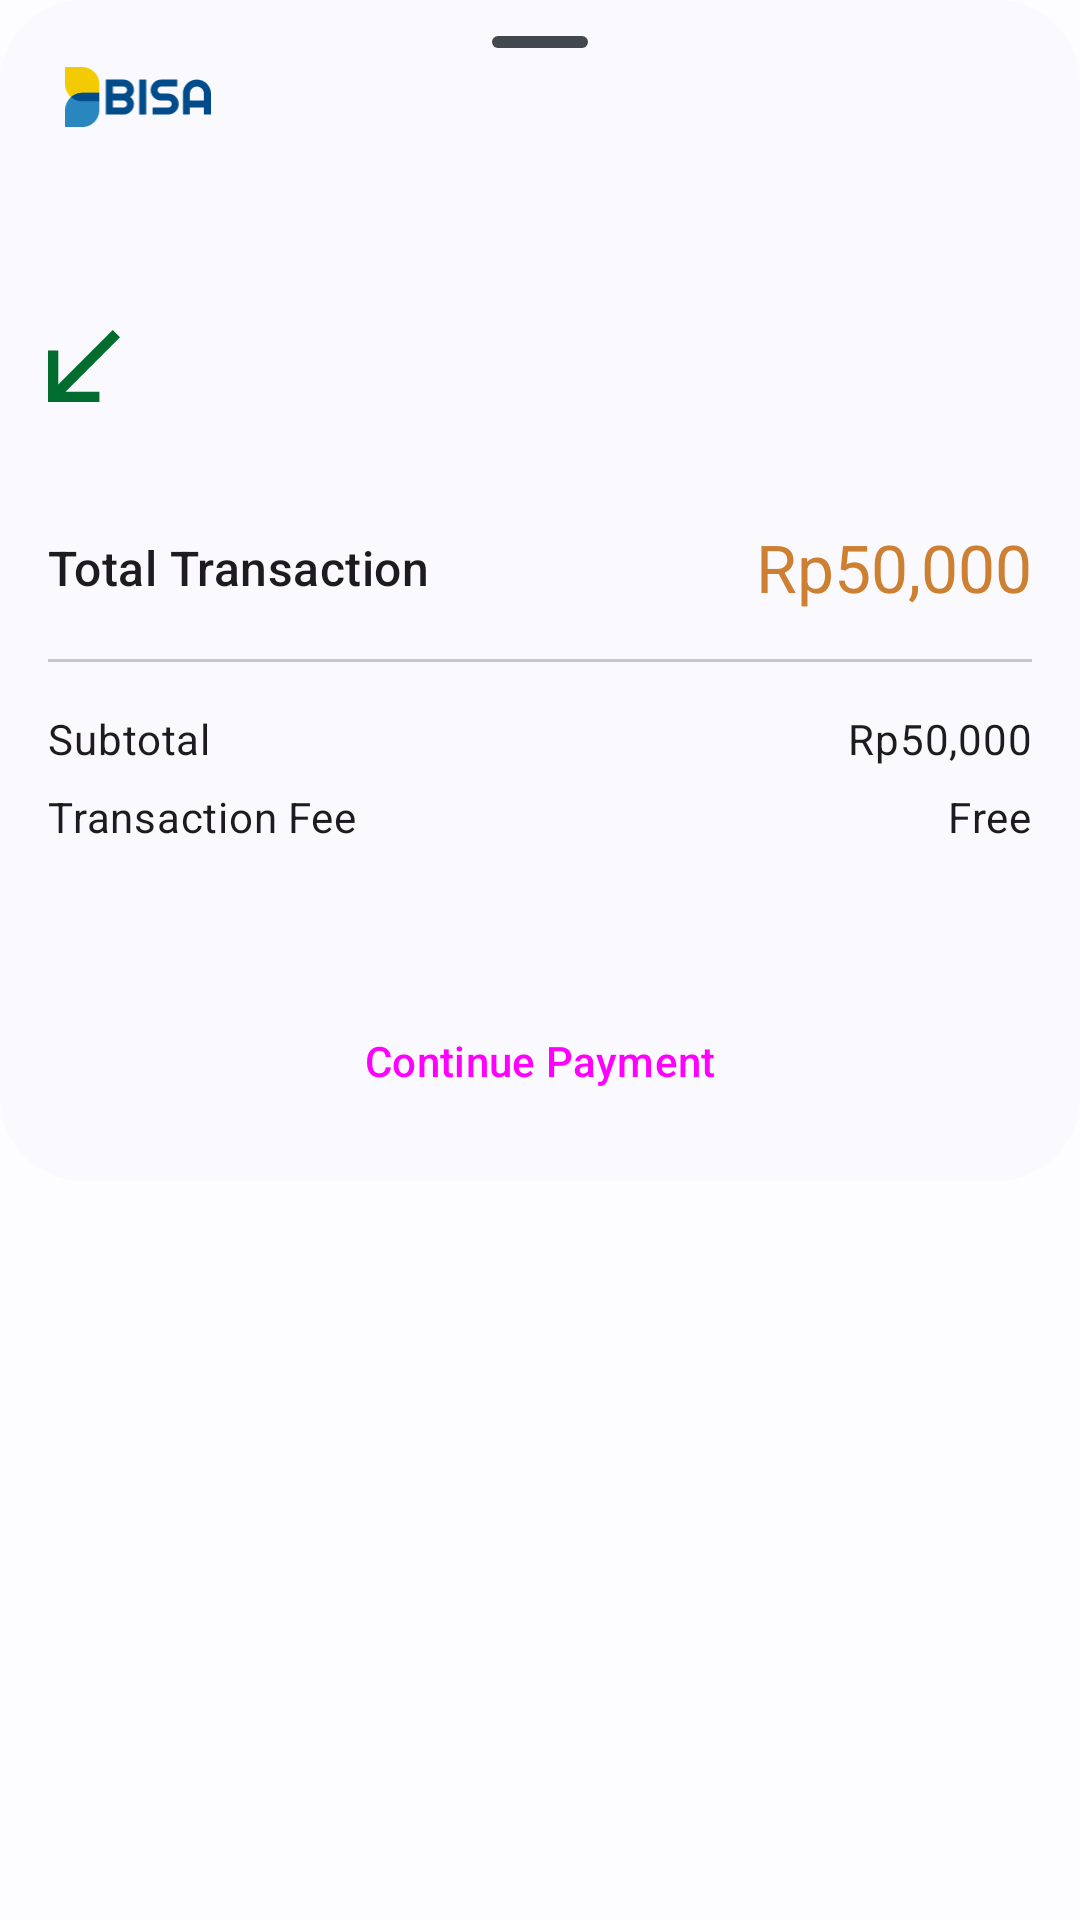

Icons on this 1080 × 1920 Android screen, each with the point to tap as [x,y]:
arrow bottom left: [84,366]
